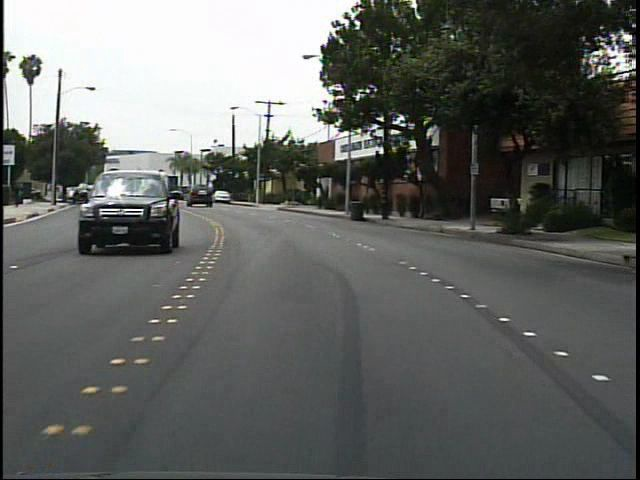person: (11, 178, 30, 209)
